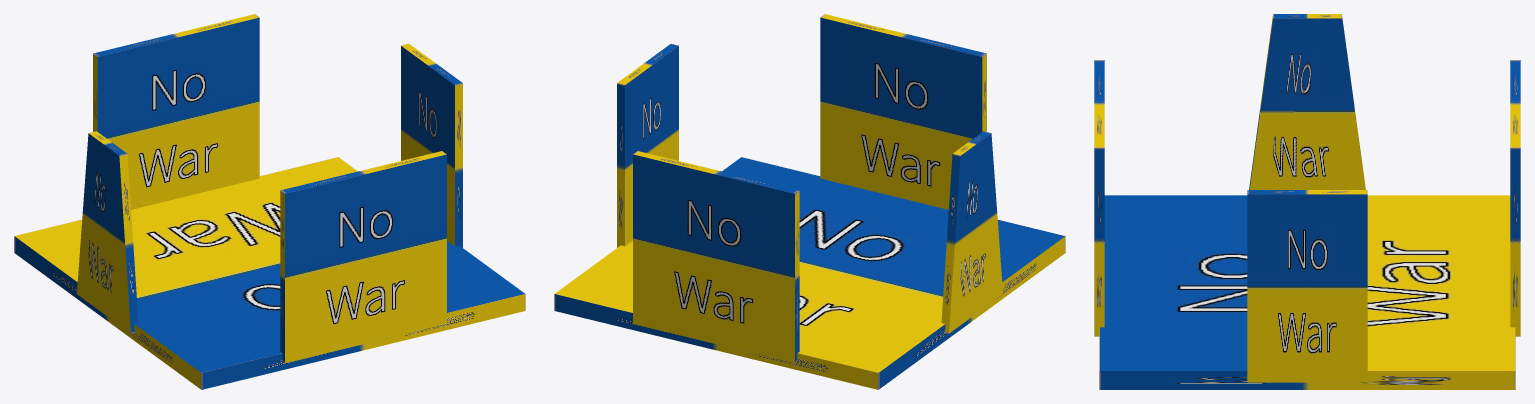
The model's file is texturetest.glb.
3 views of the same model, side by side, from view 1: azimuth 30°, elevation 25°; view 2: azimuth 150°, elevation 25°; view 3: azimuth 270°, elevation 25° (orthographic). The views are drawn at different scales.
Parts seen in each view (by area): view 1: Cube; view 2: Cube; view 3: Cube.
Part boxes in pixels (bbox=[...]): Cube: bbox=[14, 14, 525, 389]; Cube: bbox=[554, 14, 1065, 389]; Cube: bbox=[1094, 14, 1520, 389].
Bounding box in the file's own units: 20.5 × 10.5 × 20.5.
1 material, 1 textured.
